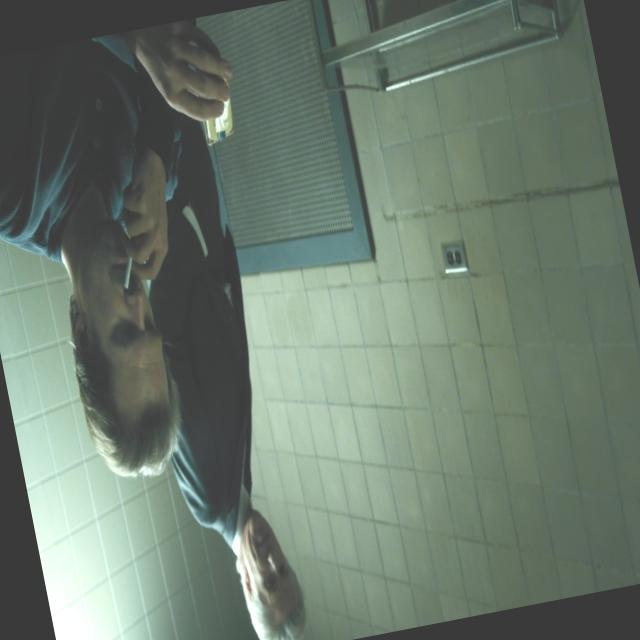cigarette: (118, 258, 138, 290)
